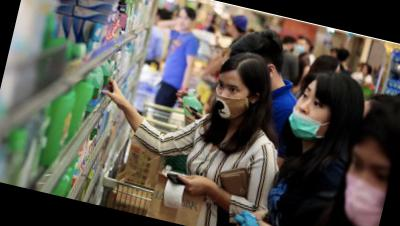mask_weared_incorrect: (284, 81, 337, 144)
with_mask: (332, 144, 396, 226), (209, 76, 255, 124)
without_mask: (174, 12, 195, 33)
